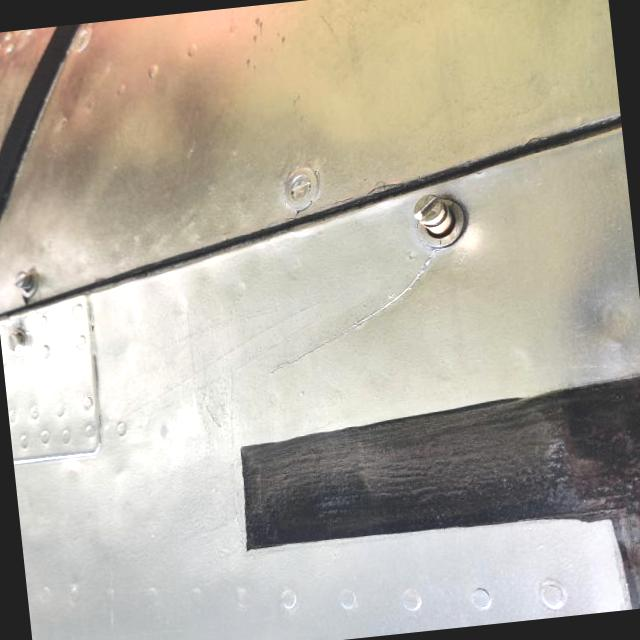scratch: (230, 240, 450, 390)
